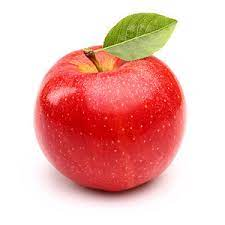apple: (34, 44, 187, 194)
